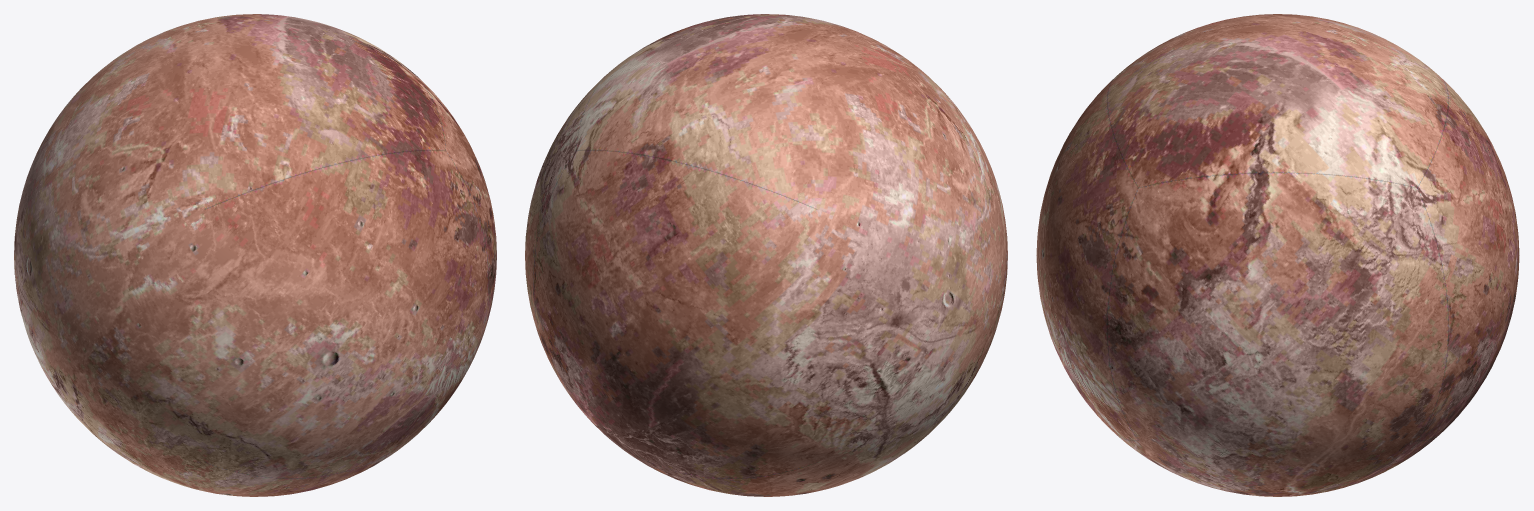
Rendered from planet.glb.
3 renders of one model, left to right at view 1: azimuth 30°, elevation 25°; view 2: azimuth 150°, elevation 25°; view 3: azimuth 270°, elevation 25°, orthographic.
Parts seen in each view (by area): view 1: Phoenix_LOD0; view 2: Phoenix_LOD0; view 3: Phoenix_LOD0.
Boxes of the visible parts, <box> form: Phoenix_LOD0: <box>14,14,496,496</box>; Phoenix_LOD0: <box>525,14,1007,496</box>; Phoenix_LOD0: <box>1036,14,1519,496</box>.
Size of what is drawn, in the model's own units: 43.93 by 43.93 by 43.93.
Materials: 1 (1 with a texture image).
